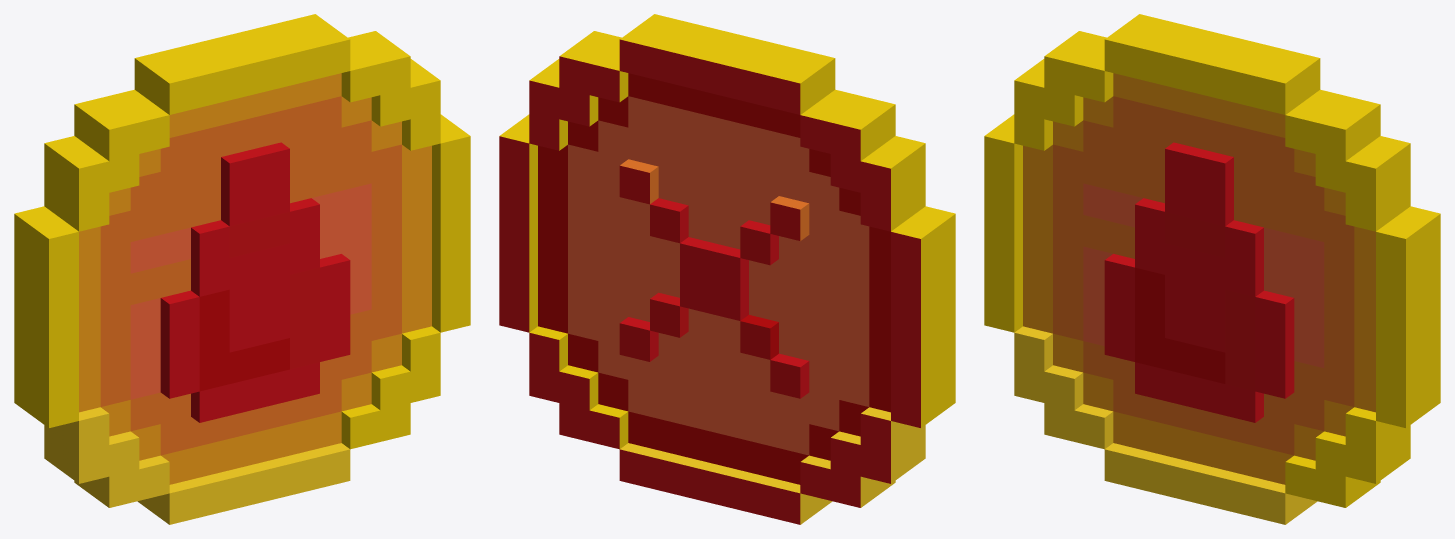
File: coin.glb
3 views of the same model, side by side, from view 1: azimuth 30°, elevation 25°; view 2: azimuth 150°, elevation 25°; view 3: azimuth 330°, elevation 25° (orthographic).
Visible parts, largest first — view 1: generated(Clone); view 2: generated(Clone); view 3: generated(Clone).
Part boxes in pixels (box(x1,y1,x2,y2)): generated(Clone): box(14, 14, 470, 524); generated(Clone): box(499, 14, 955, 524); generated(Clone): box(984, 14, 1440, 524).
Bounding box in the file's own units: 14 × 14 × 2.
